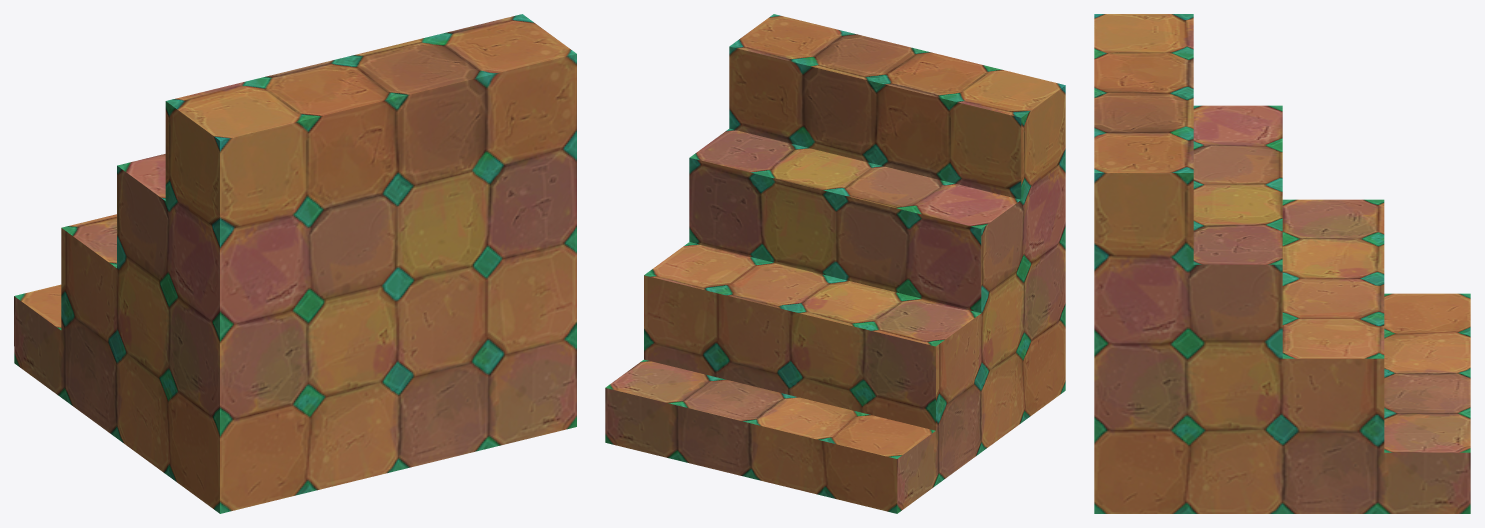
The model's file is POL0510013.fbx.
The picture shows the model from 3 angles, left to right: view 1: azimuth 30°, elevation 25°; view 2: azimuth 150°, elevation 25°; view 3: azimuth 270°, elevation 25°; orthographic projection. The views are drawn at different scales.
Parts seen in each view (by area): view 1: smPOL0510013; view 2: smPOL0510013; view 3: smPOL0510013.
Boxes of the visible parts, x1,y1,x2,y2 form: smPOL0510013: (14,14,576,513); smPOL0510013: (605,14,1065,513); smPOL0510013: (1094,14,1470,513).
Bounding box in the file's own units: 161 × 161 × 161.
Materials: 1 (1 with a texture image).
